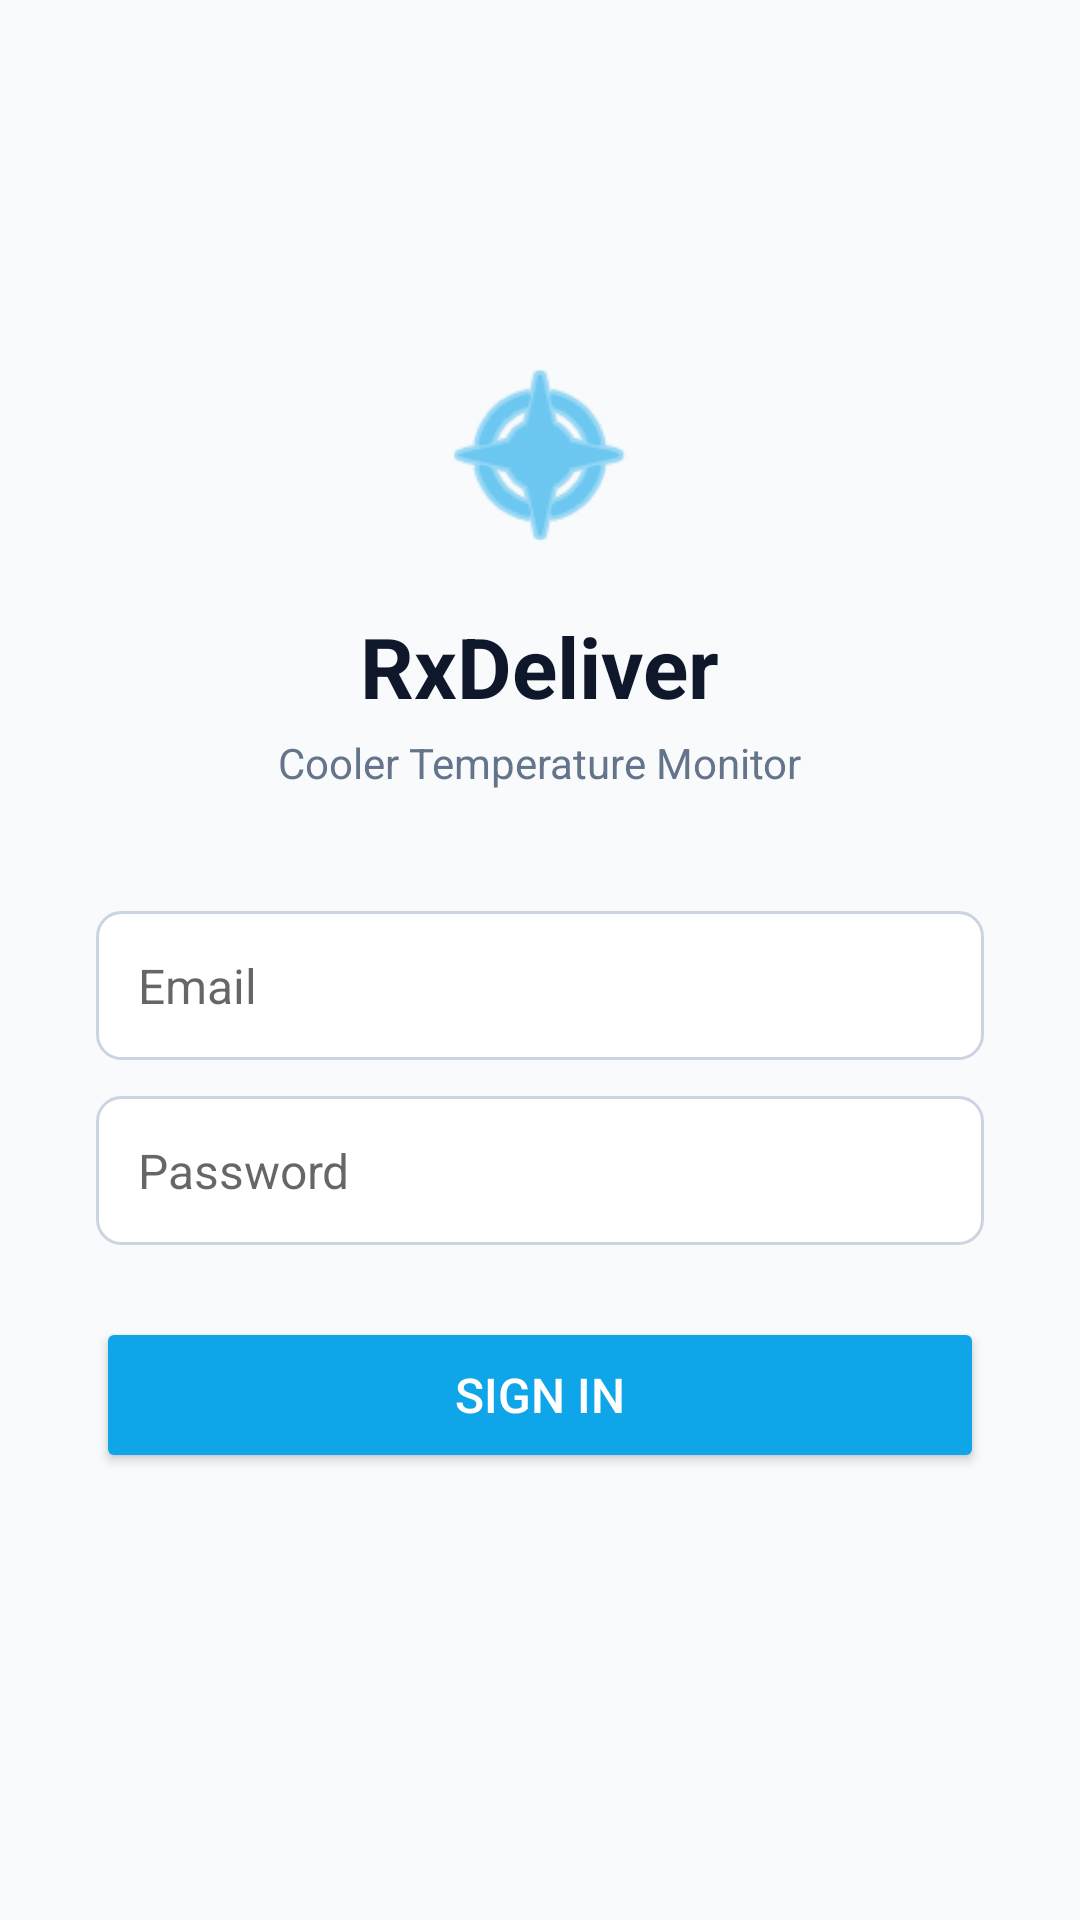

Screen size 1080px×1920px. Icon name, then its center in pixels as (x=x, y=y):
compass: (x=539, y=455)
